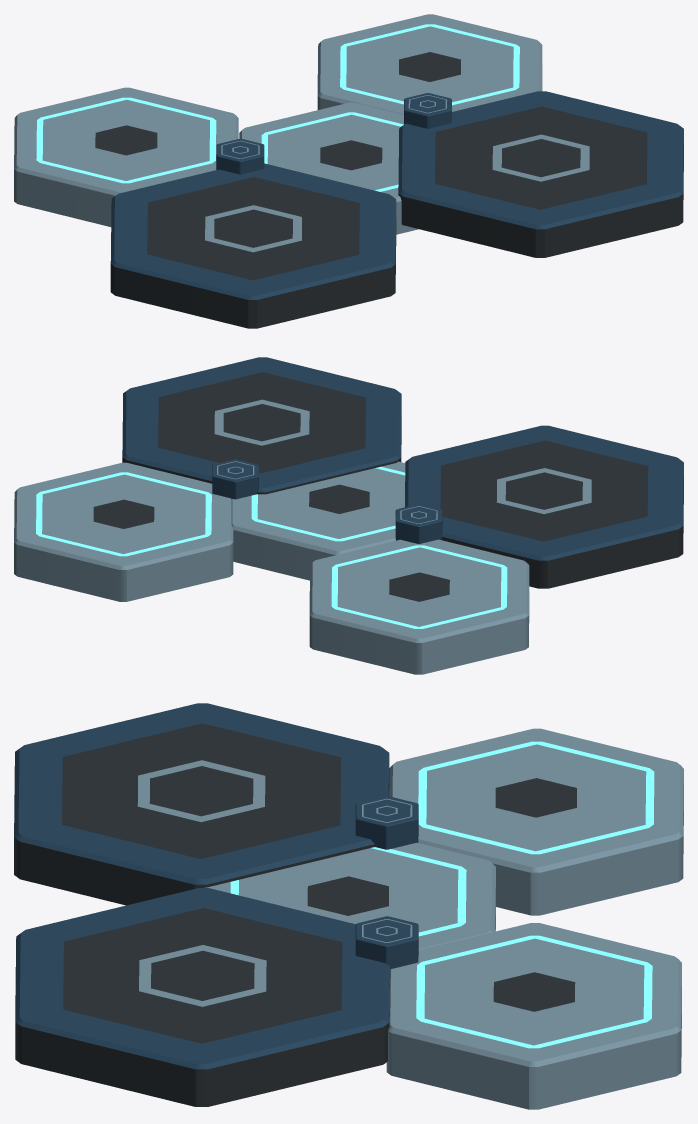
File: Aero_Ground_Hexagons_02_Art.fbx
3 views of the same model, one above another, from view 1: azimuth 30°, elevation 25°; view 2: azimuth 150°, elevation 25°; view 3: azimuth 270°, elevation 25° (orthographic). The views are drawn at different scales.
Parts seen in each view (by area): view 1: Aero_Ground_Hexagons_02_Art; view 2: Aero_Ground_Hexagons_02_Art; view 3: Aero_Ground_Hexagons_02_Art.
Part boxes in pixels (left/top/right/bottom): Aero_Ground_Hexagons_02_Art: left=14, top=14, right=683, bottom=328; Aero_Ground_Hexagons_02_Art: left=14, top=357, right=683, bottom=674; Aero_Ground_Hexagons_02_Art: left=14, top=703, right=683, bottom=1109.
Size of the model in its own units: 1670 by 202 by 1298.
